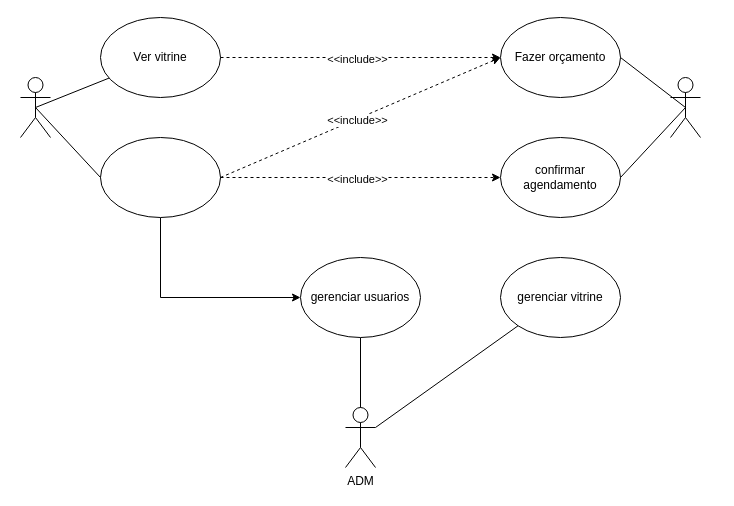
Image size: 734x506. Some labels were removed from this diagram. Here are the shapes that lost their labels. From the top down, the centre of each, then its label:
At (35,107): "Cliente".
At (685,107): "Funcionário".
At (160,177): "agendar banho, tosa e baho e tosa".
